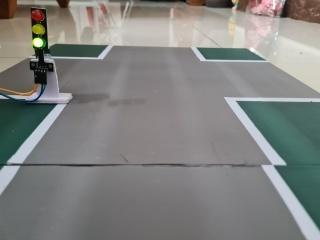green: (25, 1, 53, 62)
